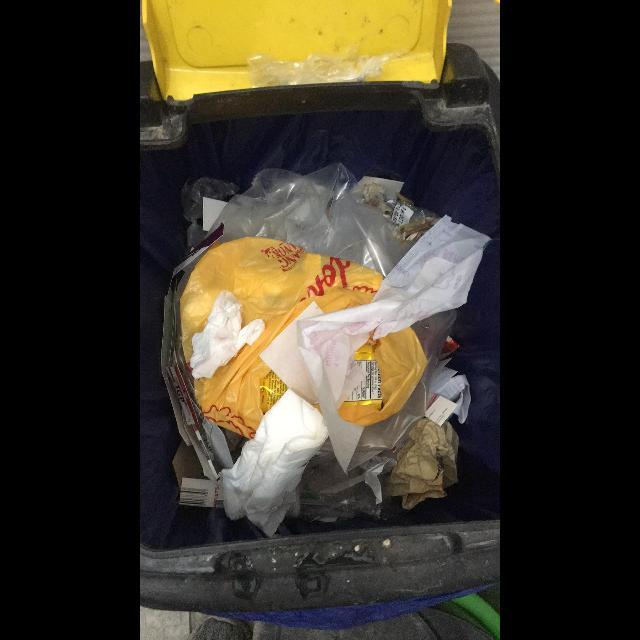paper: (296, 215, 491, 475), (161, 223, 234, 482), (218, 389, 329, 539), (383, 418, 459, 510), (190, 290, 265, 382), (172, 440, 224, 515), (427, 357, 471, 424), (425, 394, 458, 427)
plastic: (180, 216, 491, 473), (181, 163, 440, 277)
